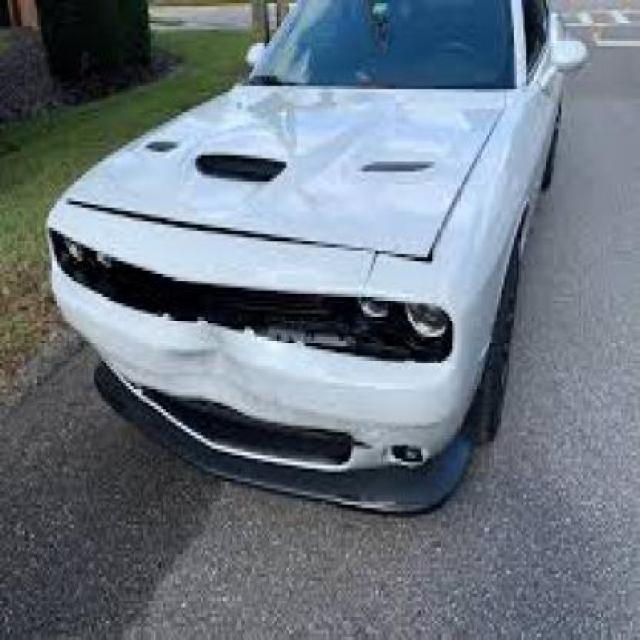damaged-front-bumper: (49, 269, 452, 489)
